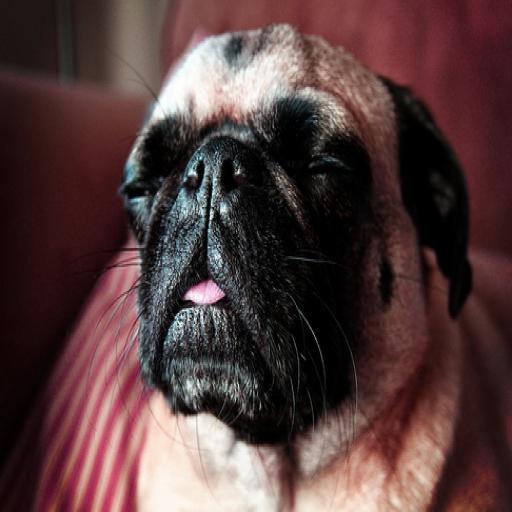dog_face: (118, 31, 476, 416)
